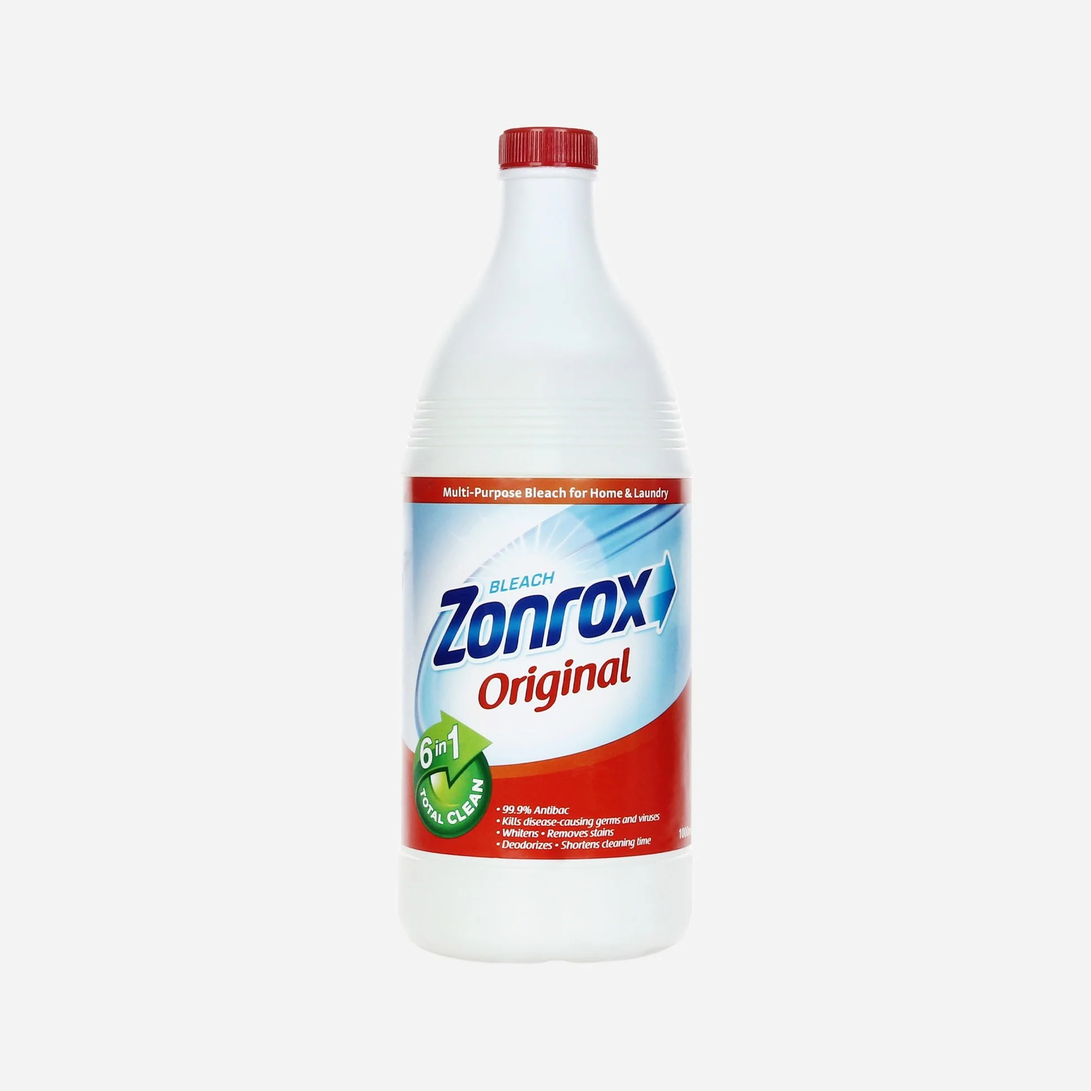toxic_waste: (403, 146, 699, 944)
